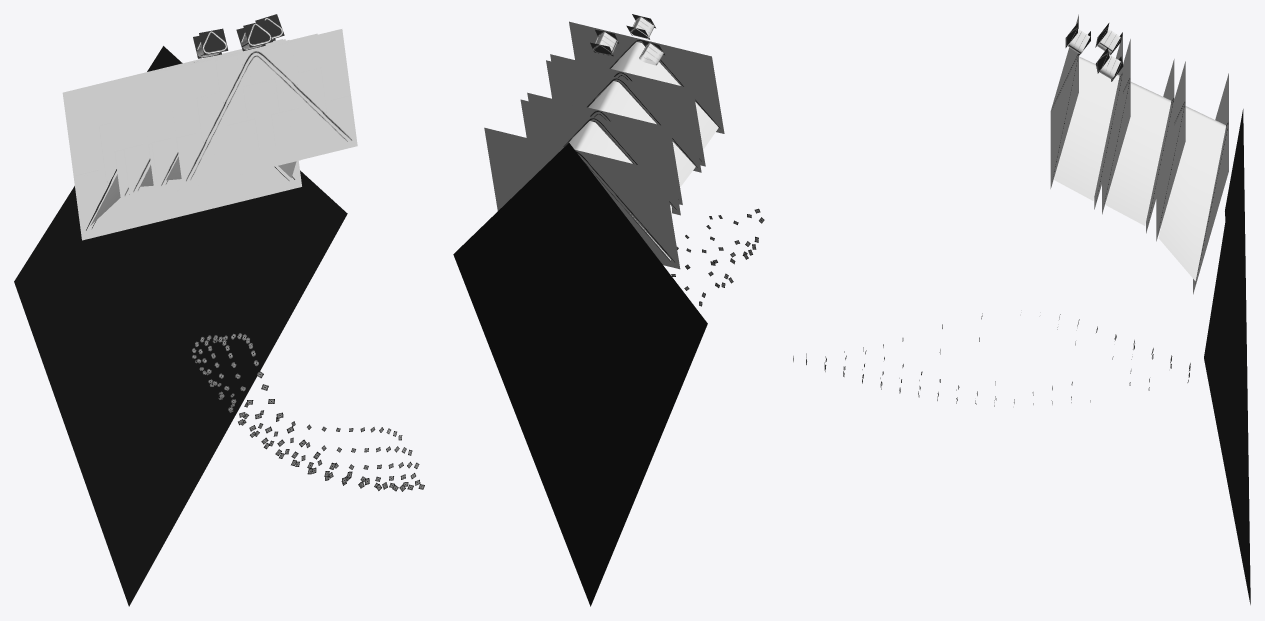
The model's file is inizio4.dae.
3 renders of one model, left to right at view 1: azimuth 30°, elevation 25°; view 2: azimuth 150°, elevation 25°; view 3: azimuth 270°, elevation 25°, orthographic. The views are drawn at different scales.
Visible parts, largest first — view 1: back, topgrande (×5), spirale, megapattern_top (×2), no_alpha; view 2: back, topgrande (×6), no_alpha (×3), spirale; view 3: no_alpha (×3), back, topgrande (×6).
Part boxes in pixels (x1=…): back: x1=14, y1=46, x2=347, y2=606; topgrande (×5): x1=62, y1=29, x2=357, y2=240; spirale: x1=191, y1=332, x2=424, y2=491; megapattern_top (×2): x1=199, y1=20, x2=272, y2=55; no_alpha: x1=90, y1=161, x2=296, y2=225; back: x1=453, y1=143, x2=707, y2=606; topgrande (×6): x1=484, y1=21, x2=724, y2=269; no_alpha (×3): x1=564, y1=41, x2=718, y2=260; spirale: x1=671, y1=208, x2=764, y2=306; no_alpha (×3): x1=1054, y1=56, x2=1225, y2=280; back: x1=1204, y1=109, x2=1250, y2=604; topgrande (×6): x1=1050, y1=14, x2=1228, y2=294.
Bounding box in the file's own units: 525 × 1003 × 701.
Materials: 7 (7 with a texture image).
